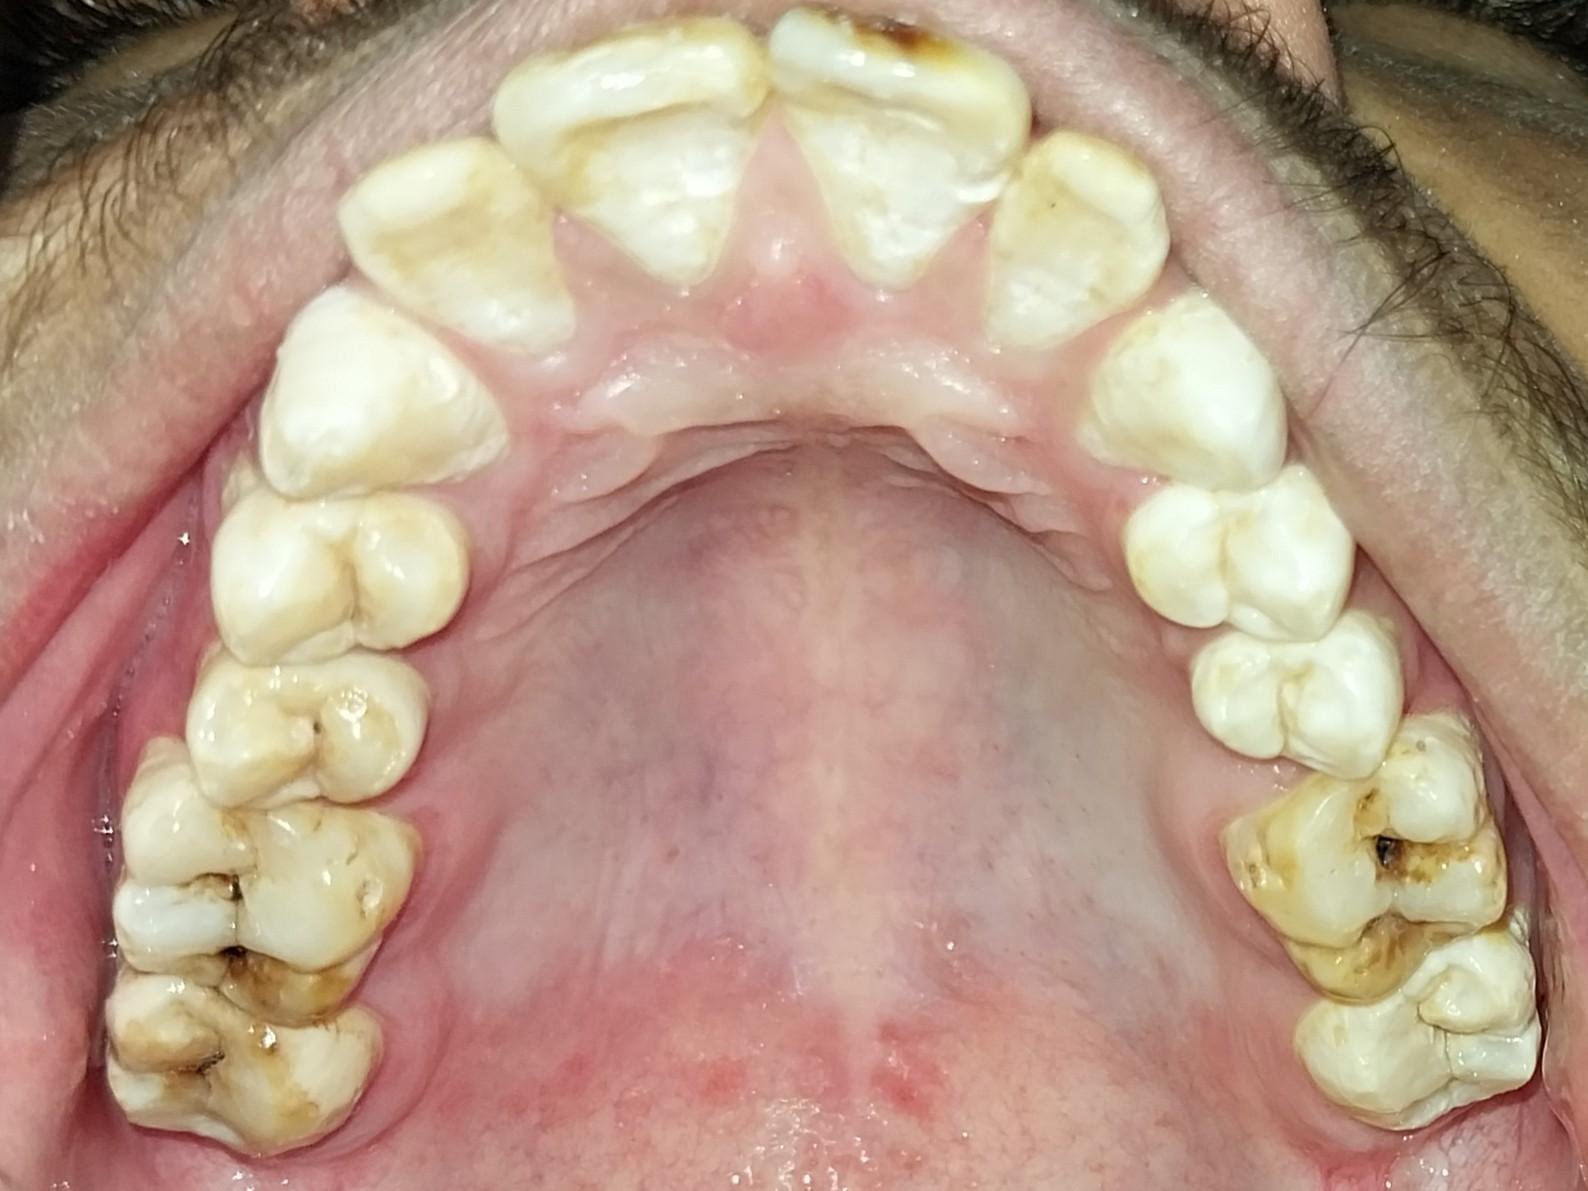D: (119, 757, 414, 1027), (1222, 731, 1504, 996), (99, 968, 379, 1152), (183, 653, 431, 811)
